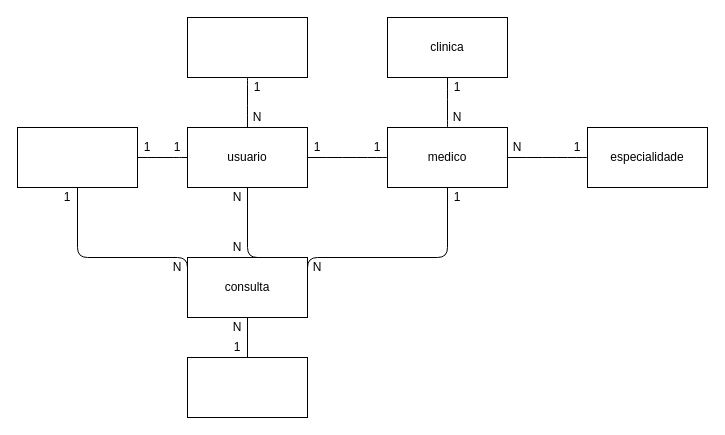
The diagram is 725 pixels wide and 435 high, and some of its shapes have lost their labels. The centre of each missing label's shape, as x and y in pixels:
paciente: the point at 77,157
situacao: the point at 247,387
tipoUsuario: the point at 247,47
